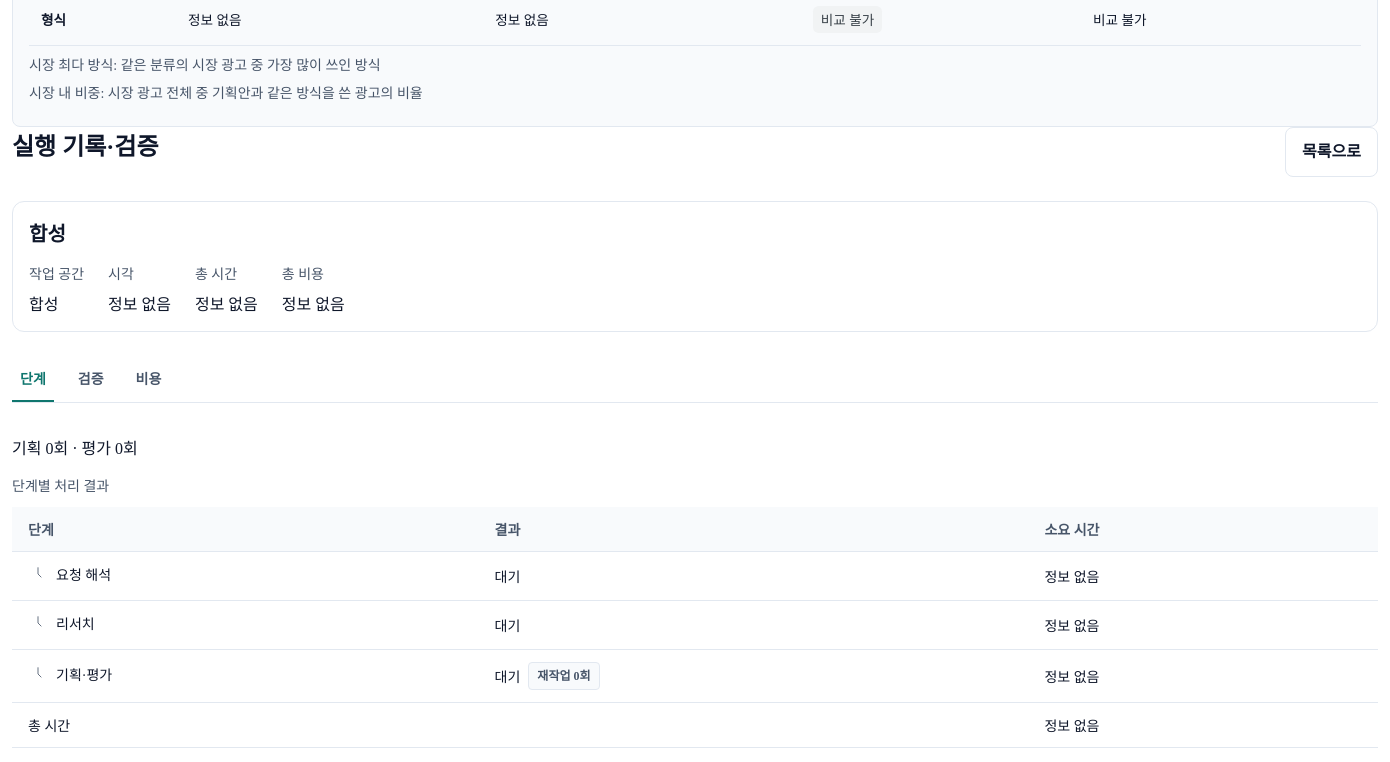
uses the same desire name in chart rows, source rows and pattern facts without mutating data
(page scrolled)
Click the tab "검증". click: (91, 379)
box: [70,356,112,402]
(page scrolled)
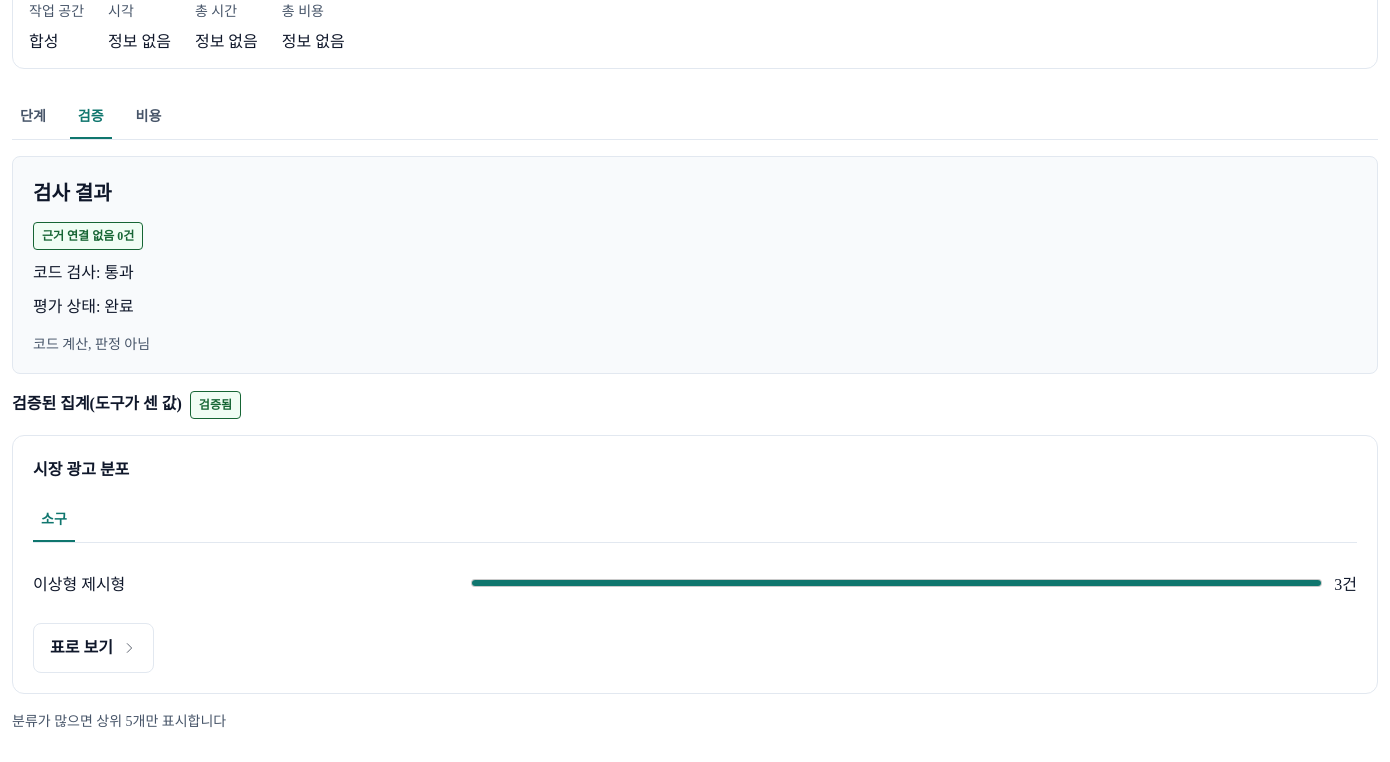
Click the button "표로 보기". click: (93, 648)
box: [33,623,154,673]
(page scrolled)
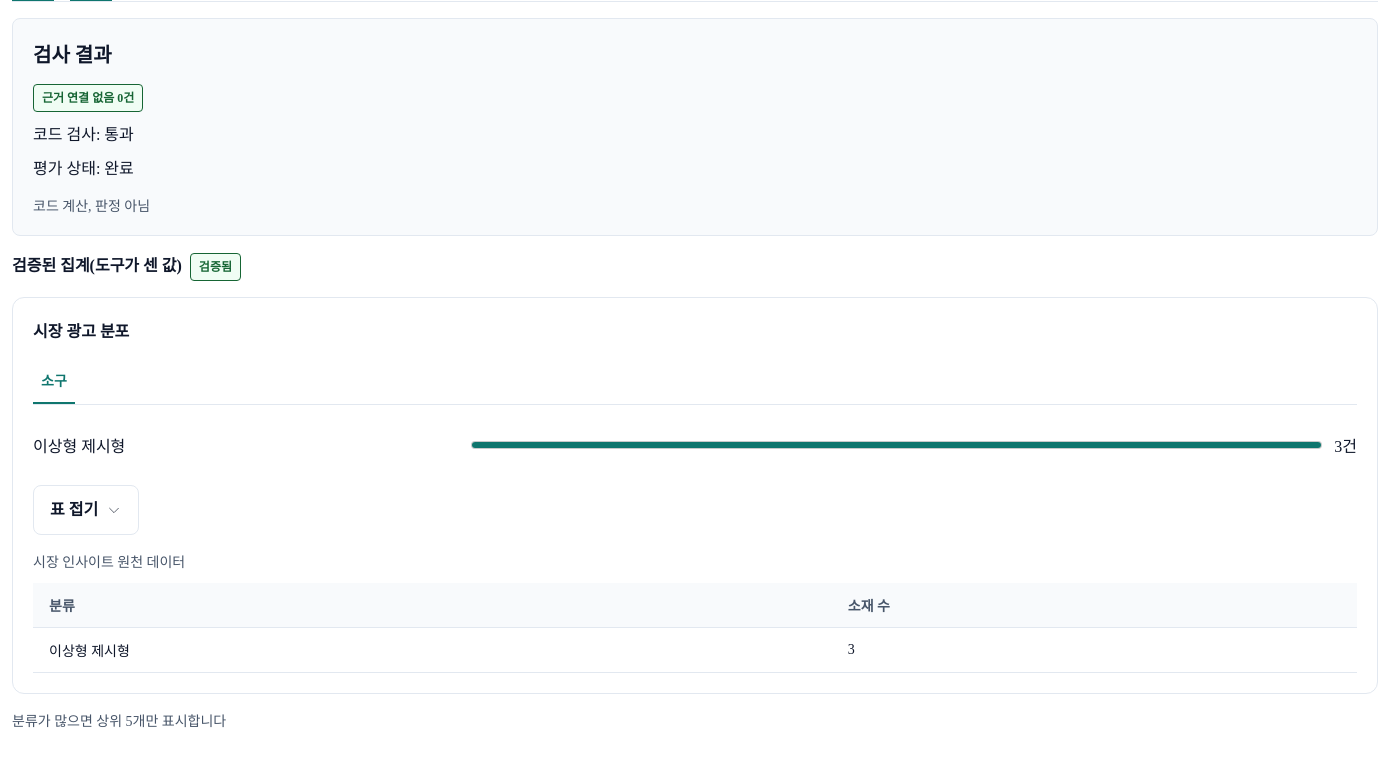
Result: the text "이상형 제시형" is shown at [33,627,832,672]
